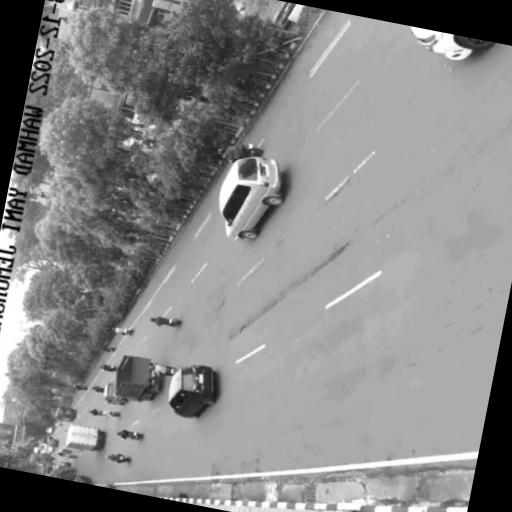car: (219, 157, 283, 240), (411, 26, 494, 61), (168, 365, 215, 418), (230, 144, 263, 162), (103, 383, 127, 405), (128, 432, 143, 440), (168, 318, 181, 327), (58, 461, 71, 469), (165, 367, 176, 376), (48, 438, 58, 447), (119, 455, 130, 463), (46, 444, 56, 452), (123, 328, 134, 335), (46, 425, 54, 434), (94, 386, 104, 393), (108, 412, 119, 417), (68, 454, 77, 459), (107, 347, 115, 352), (109, 366, 117, 371), (80, 385, 87, 390)
motorcycle: (230, 144, 263, 162), (128, 432, 143, 440), (168, 318, 181, 327), (165, 367, 176, 376), (119, 455, 130, 463), (123, 328, 134, 335), (94, 386, 104, 393), (108, 412, 119, 417), (68, 454, 77, 459), (107, 347, 115, 352), (109, 366, 117, 371), (80, 385, 87, 390)
truck: (115, 356, 160, 402), (65, 425, 104, 451), (54, 406, 75, 422)
